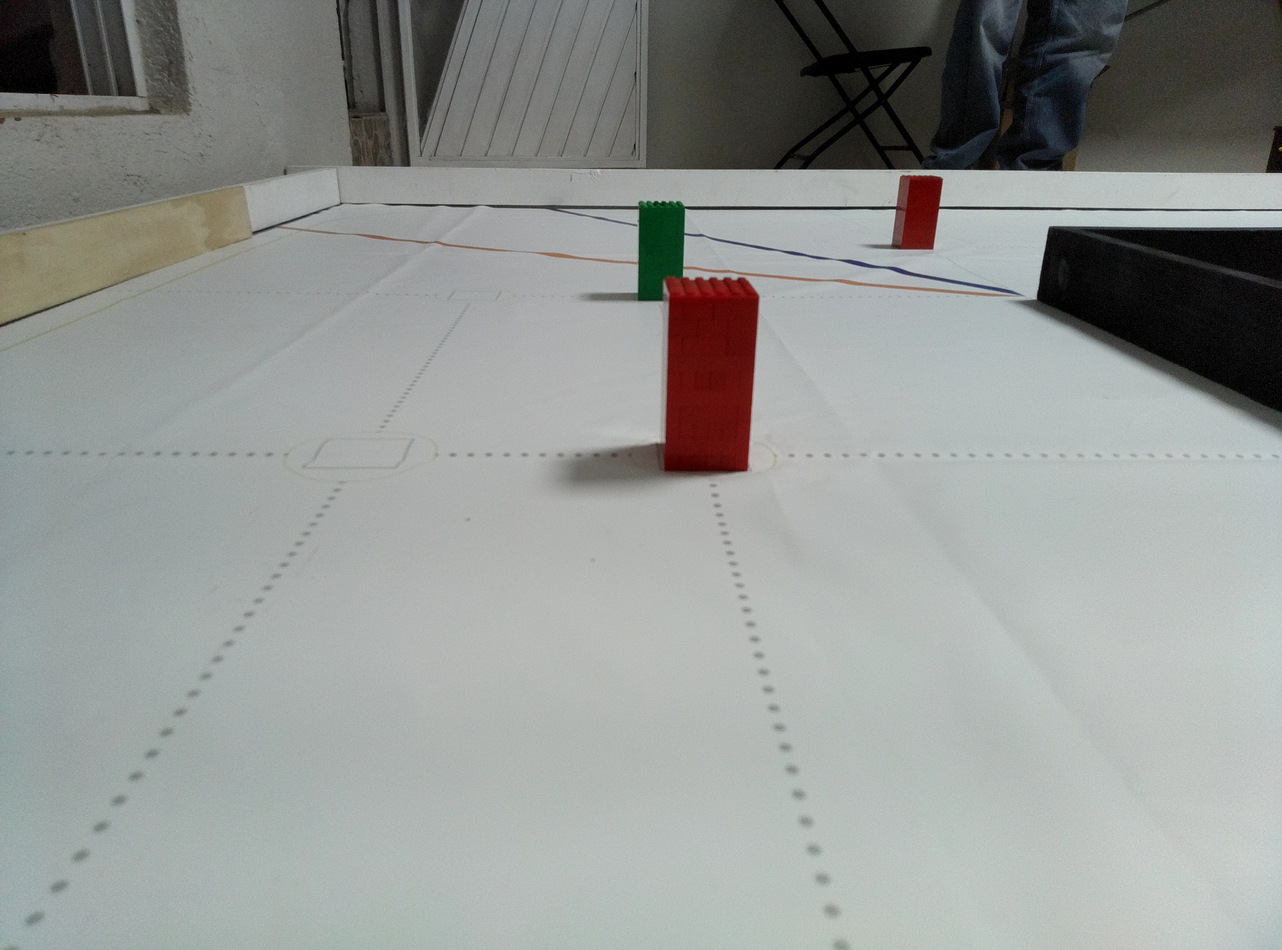greenbox: (636, 200, 686, 303)
redbox: (658, 273, 760, 474), (889, 174, 944, 252)
